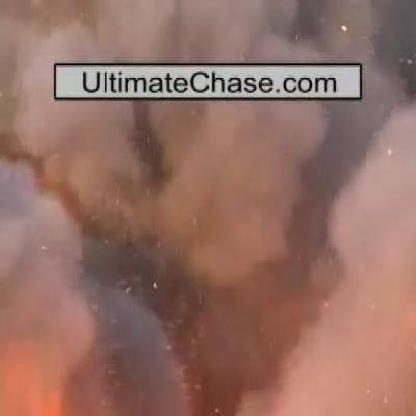-: (14, 103, 395, 350), (43, 1, 360, 58)
